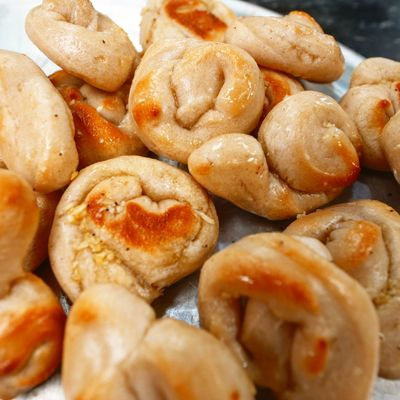salad: (197, 233, 382, 400), (47, 155, 220, 307), (187, 133, 307, 222), (223, 9, 345, 82), (0, 270, 65, 400), (0, 165, 40, 299)
